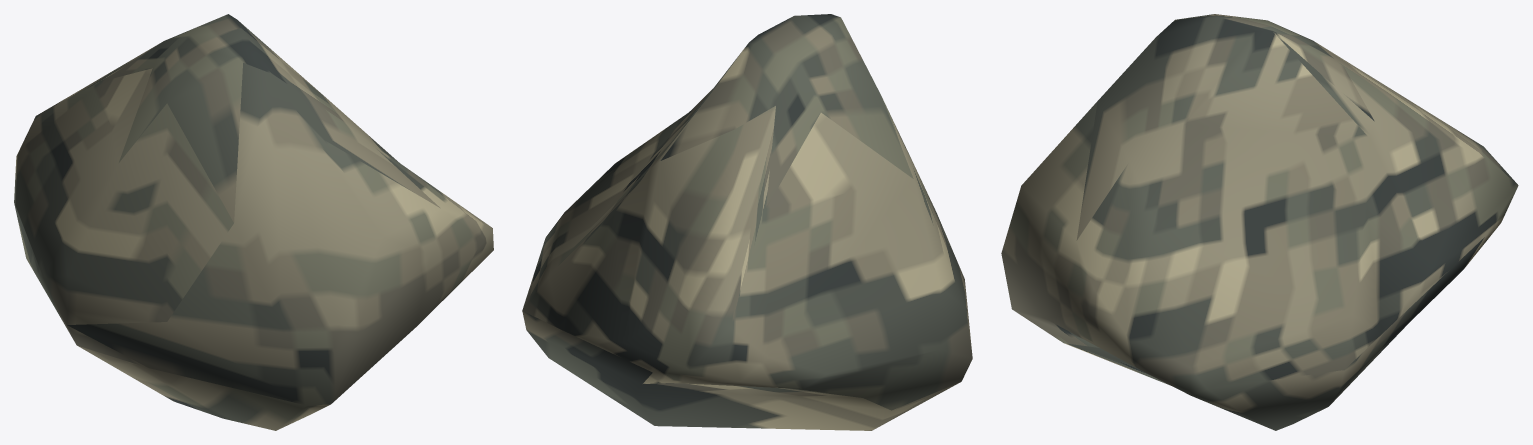
Rendered from rockSmall03.fbx.
3 views of the same model, side by side, from view 1: azimuth 30°, elevation 25°; view 2: azimuth 150°, elevation 25°; view 3: azimuth 270°, elevation 25° (orthographic). The views are drawn at different scales.
Parts seen in each view (by area): view 1: RockSmall3; view 2: RockSmall3; view 3: RockSmall3.
Boxes of the visible parts, x1,y1,x2,y2 form: RockSmall3: [14, 14, 493, 430]; RockSmall3: [522, 14, 972, 430]; RockSmall3: [1001, 14, 1518, 430].
Size of the model in its own units: 17.02 by 15.39 by 19.16.
